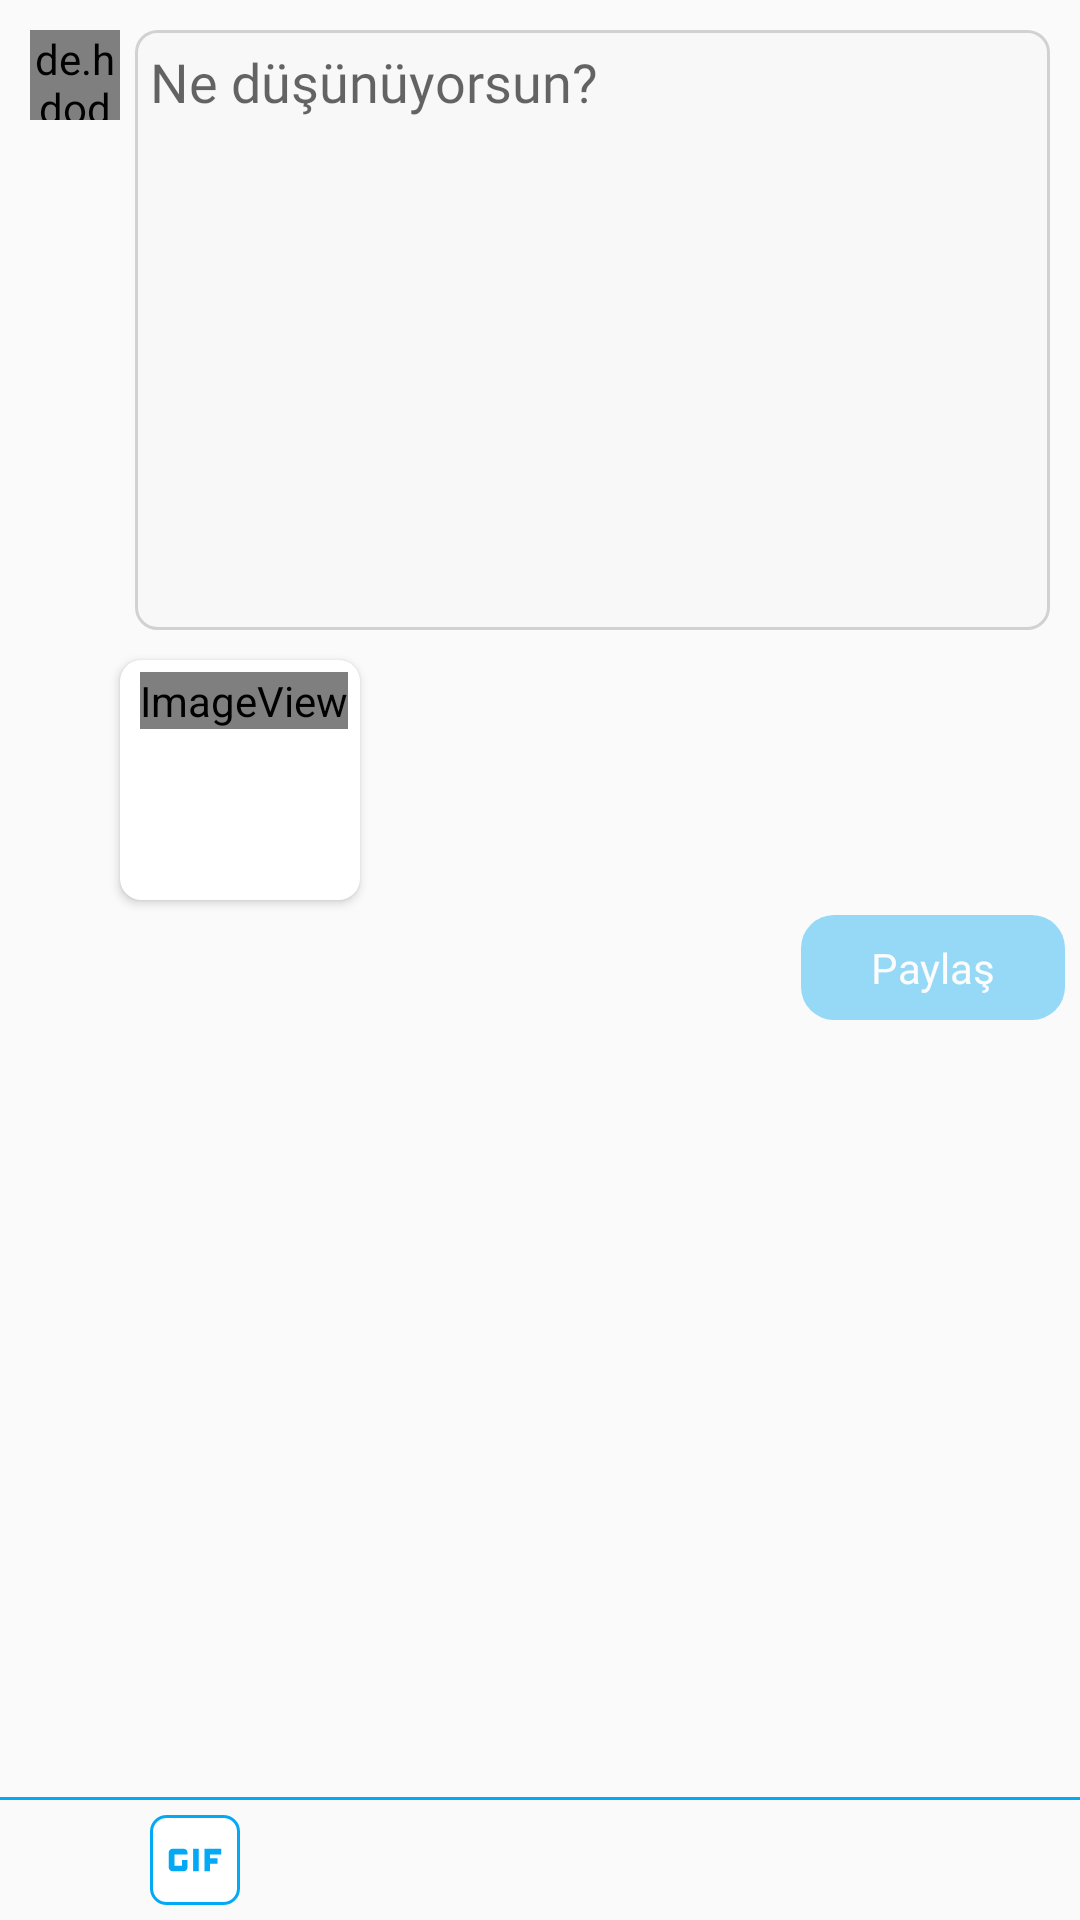

Where to tap for icons on this 1080px x 1920px app screen, as point (x, y):
post add gif: point (195, 1860)
